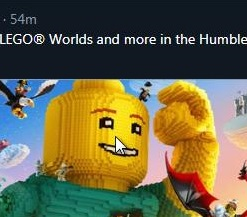cursor: (114, 134, 126, 156)
